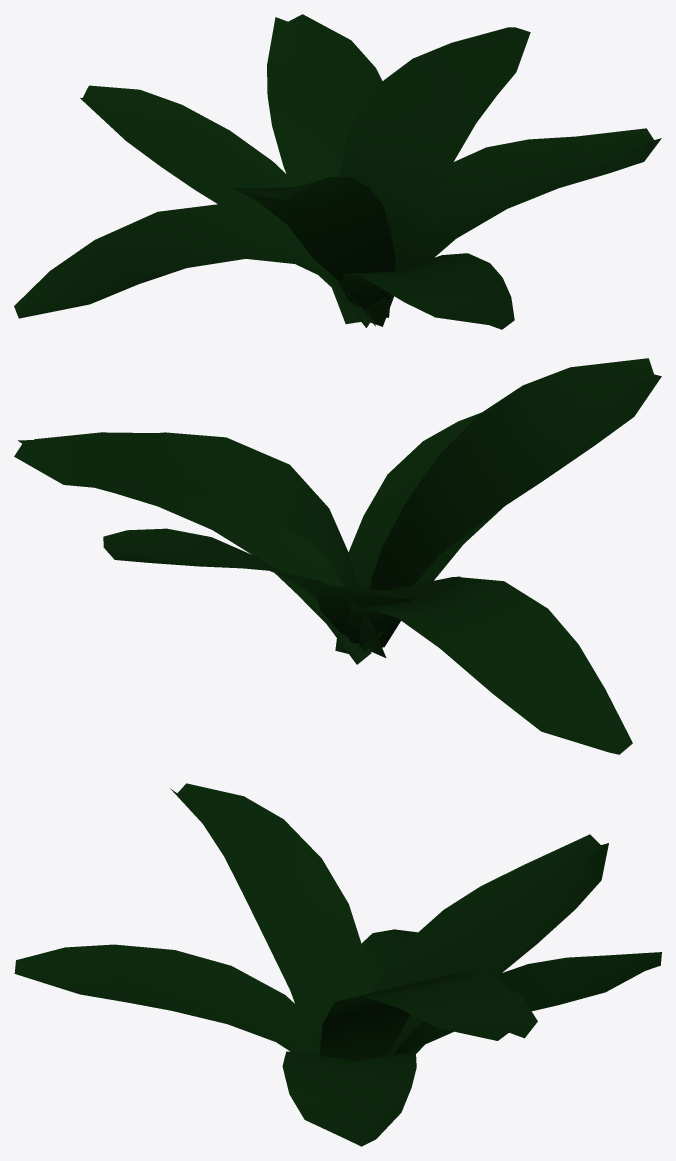
The model's file is plant4.fbx.
The picture shows the model from 3 angles, top to bottom: view 1: azimuth 30°, elevation 25°; view 2: azimuth 150°, elevation 25°; view 3: azimuth 270°, elevation 25°; orthographic projection. The views are drawn at different scales.
Parts seen in each view (by area): view 1: branch.032_xt23_xp23, branch.031_xt25_xp19, branch.034_xt19_xp25, branch.026_xt23_xp19, branch.036_xt15_xp25, branch.024_xt15_xp25, branch.029_xt27_xp25; view 2: branch.024_xt15_xp25, branch.031_xt25_xp19, branch.032_xt23_xp23, branch.036_xt15_xp25, branch.029_xt27_xp25, branch.034_xt19_xp25, branch.026_xt23_xp19; view 3: branch.024_xt15_xp25, branch.026_xt23_xp19, branch.029_xt27_xp25, branch.032_xt23_xp23, branch.036_xt15_xp25, branch.034_xt19_xp25, branch.031_xt25_xp19.
Boxes of the visible parts, left/top/right/bottom form: branch.032_xt23_xp23: left=339, top=27, right=530, bottom=326; branch.031_xt25_xp19: left=14, top=204, right=375, bottom=326; branch.034_xt19_xp25: left=267, top=14, right=382, bottom=323; branch.026_xt23_xp19: left=80, top=85, right=370, bottom=327; branch.036_xt15_xp25: left=365, top=128, right=661, bottom=315; branch.024_xt15_xp25: left=232, top=177, right=395, bottom=317; branch.029_xt27_xp25: left=339, top=253, right=514, bottom=329; branch.024_xt15_xp25: left=358, top=358, right=661, bottom=649; branch.031_xt25_xp19: left=347, top=577, right=632, bottom=754; branch.032_xt23_xp23: left=14, top=432, right=363, bottom=651; branch.036_xt15_xp25: left=34, top=432, right=371, bottom=664; branch.029_xt27_xp25: left=335, top=412, right=504, bottom=653; branch.034_xt19_xp25: left=103, top=528, right=386, bottom=657; branch.026_xt23_xp19: left=314, top=576, right=460, bottom=647; branch.024_xt15_xp25: left=170, top=783, right=371, bottom=1055; branch.026_xt23_xp19: left=371, top=834, right=608, bottom=1056; branch.029_xt27_xp25: left=14, top=944, right=315, bottom=1054; branch.032_xt23_xp23: left=319, top=973, right=537, bottom=1060; branch.036_xt15_xp25: left=282, top=1051, right=416, bottom=1146; branch.034_xt19_xp25: left=392, top=952, right=661, bottom=1055; branch.031_xt25_xp19: left=361, top=929, right=417, bottom=990.
Bounding box in the file's own units: 176 × 67.77 × 163.
